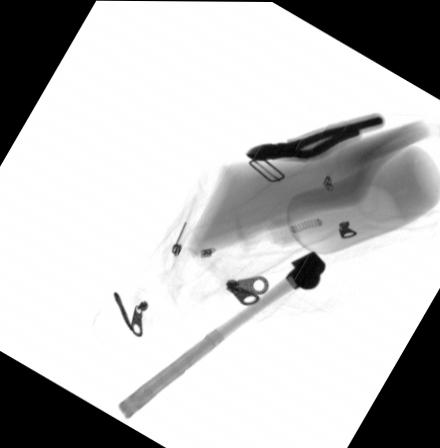Hammer: (117, 249, 326, 420)
Pliers: (245, 110, 385, 161)
